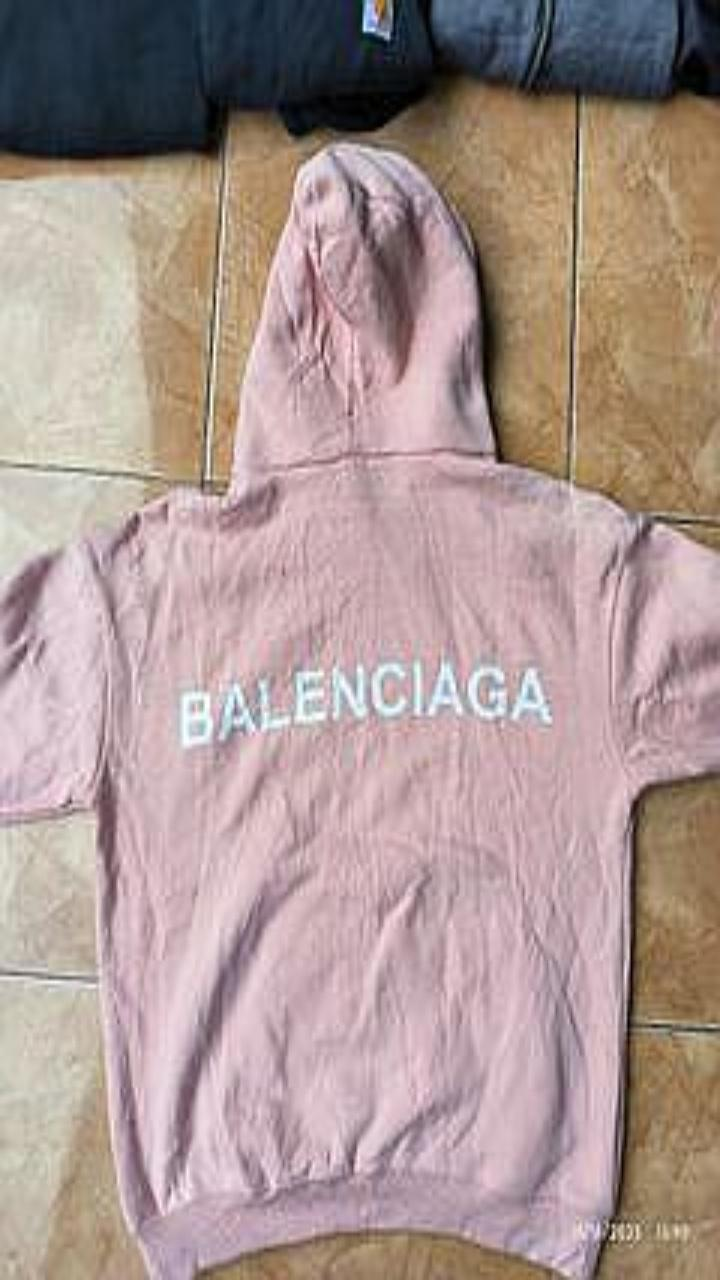Hoodie: (0, 143, 719, 1279)
